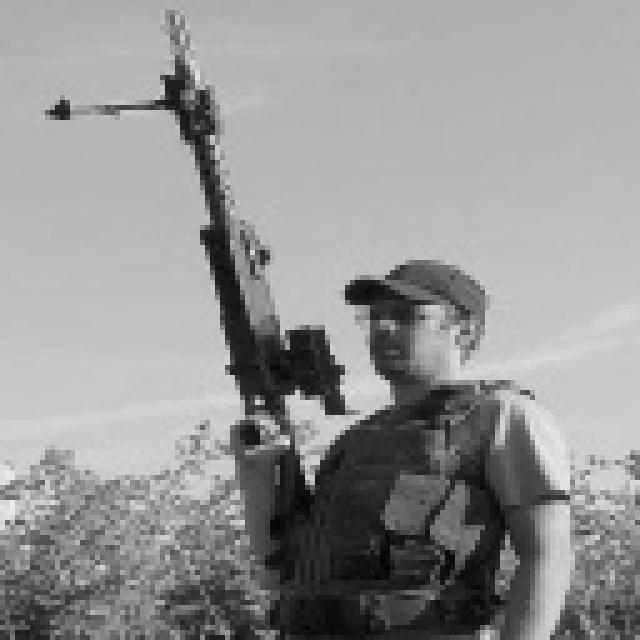Rifle: (31, 1, 392, 578)
